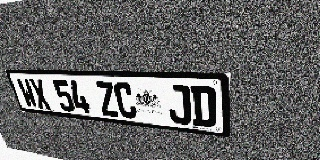4: (67, 80, 92, 114)
5: (52, 80, 76, 112)
C: (113, 82, 138, 119)
D: (190, 85, 216, 128)
J: (166, 84, 192, 125)
W: (16, 78, 39, 108)
X: (28, 79, 52, 110)
Z: (94, 81, 119, 117)
